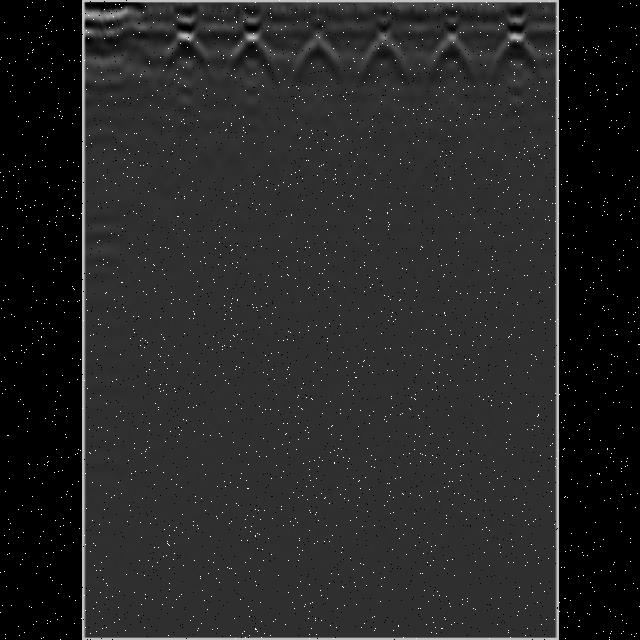hyperbola: (158, 26, 216, 74), (286, 28, 340, 74), (222, 28, 278, 72), (357, 30, 408, 74), (426, 30, 476, 74), (486, 29, 538, 69)
